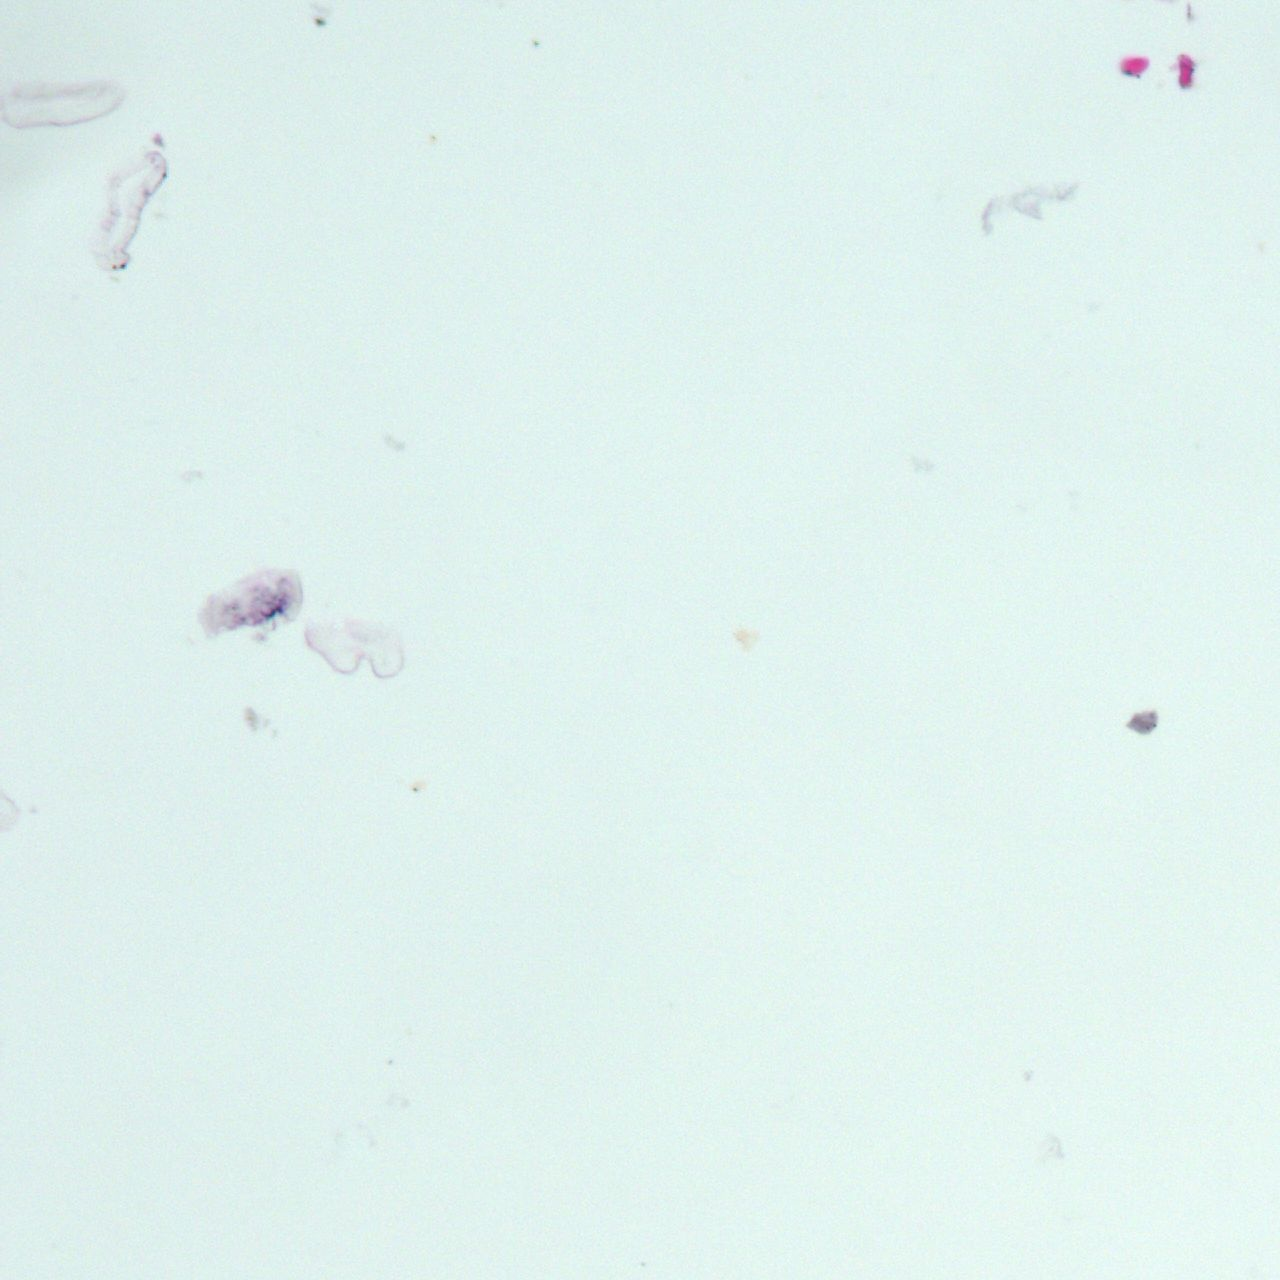dust: (1124, 708, 1160, 736)
